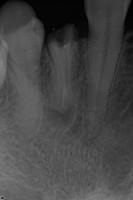Furcation Involvement: (45, 104, 74, 128)
